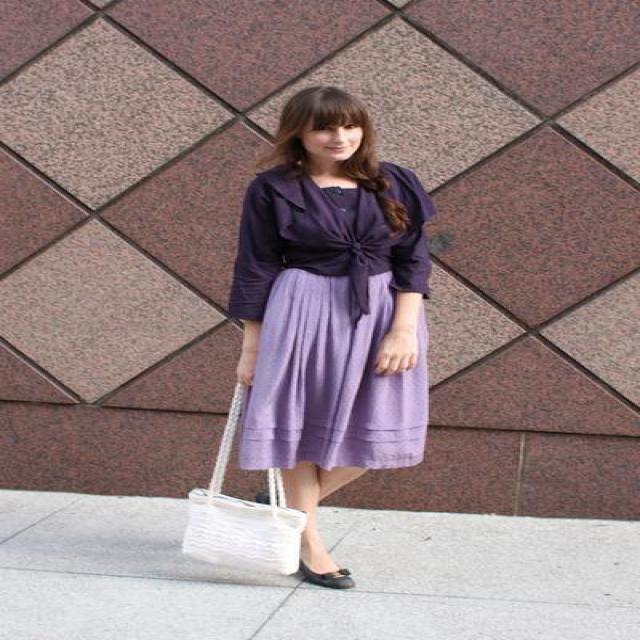bag: (182, 474, 306, 578)
dress: (234, 185, 427, 472)
jacket: (213, 168, 462, 328)
shoe: (290, 560, 352, 589)
